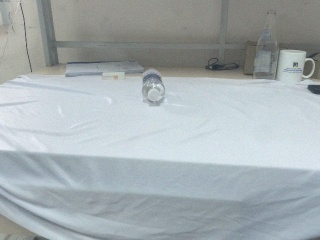bottle: (253, 11, 279, 80), (141, 68, 165, 106)
cup: (276, 49, 315, 84)
